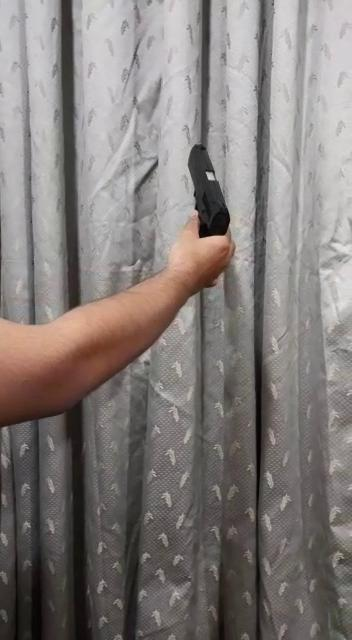weapon: (182, 137, 237, 248)
